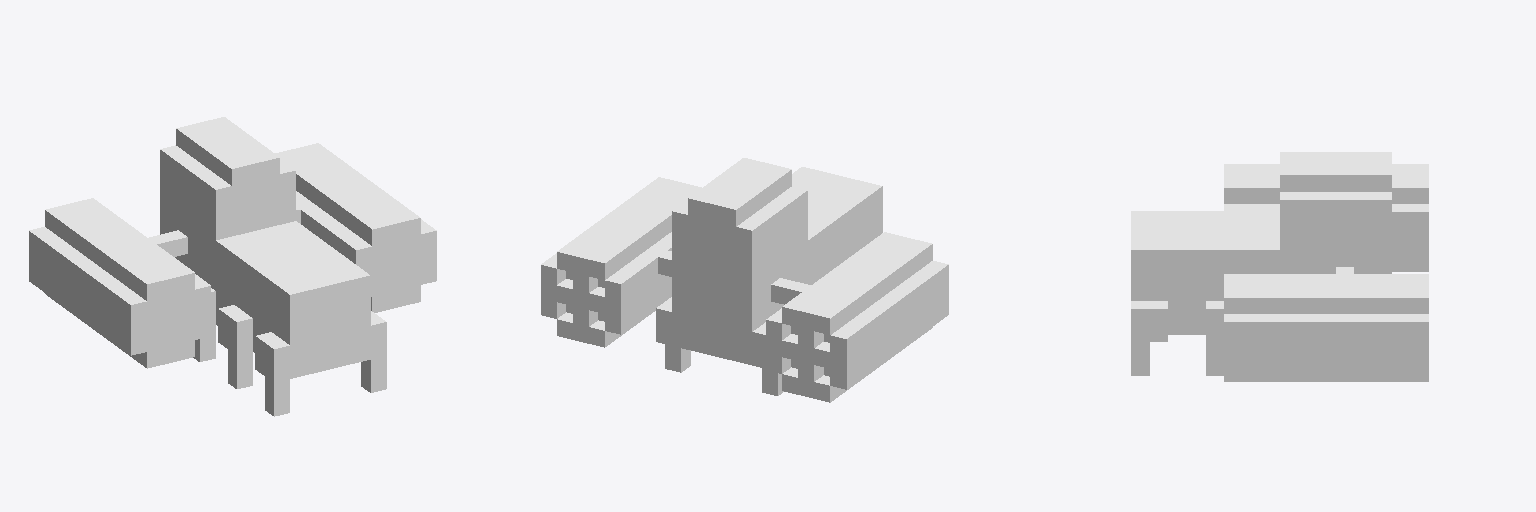
Rendered from Rocketeer.obj.
3 renders of one model, left to right at view 1: azimuth 30°, elevation 25°; view 2: azimuth 150°, elevation 25°; view 3: azimuth 270°, elevation 25°, orthographic.
Parts seen in each view (by area): view 1: Rocketeer; view 2: Rocketeer; view 3: Rocketeer.
Part boxes in pixels (x1,y1,x2,y2): Rocketeer: (29, 117, 436, 416); Rocketeer: (541, 158, 948, 402); Rocketeer: (1131, 152, 1428, 381).
Size of the model in its own units: 1.9 by 1.1 by 1.6.